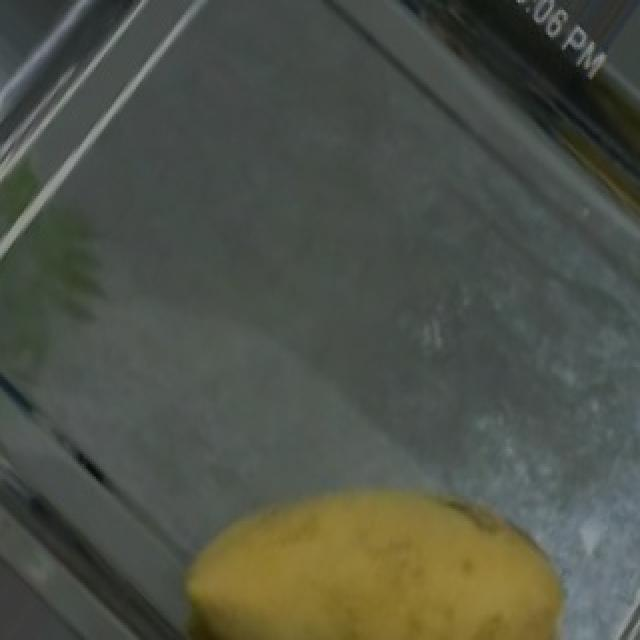fruit: (238, 419, 614, 640)
